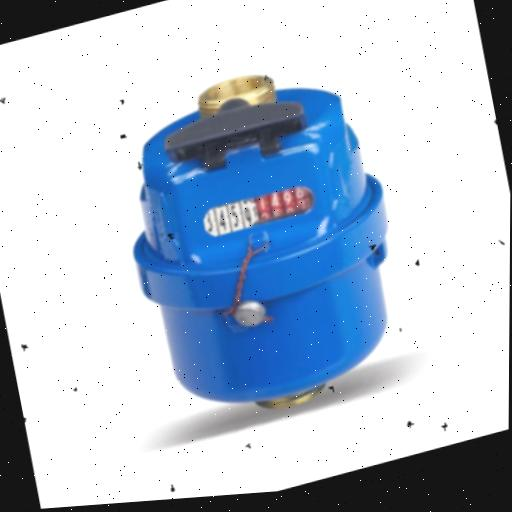1: (255, 195, 271, 224)
3: (202, 207, 218, 237)
4: (215, 205, 231, 235), (269, 191, 285, 219)
5: (228, 201, 244, 230)
6: (294, 183, 316, 213)
9: (240, 199, 258, 227), (281, 187, 297, 216)
border_water_meter_number: (201, 181, 317, 239)
